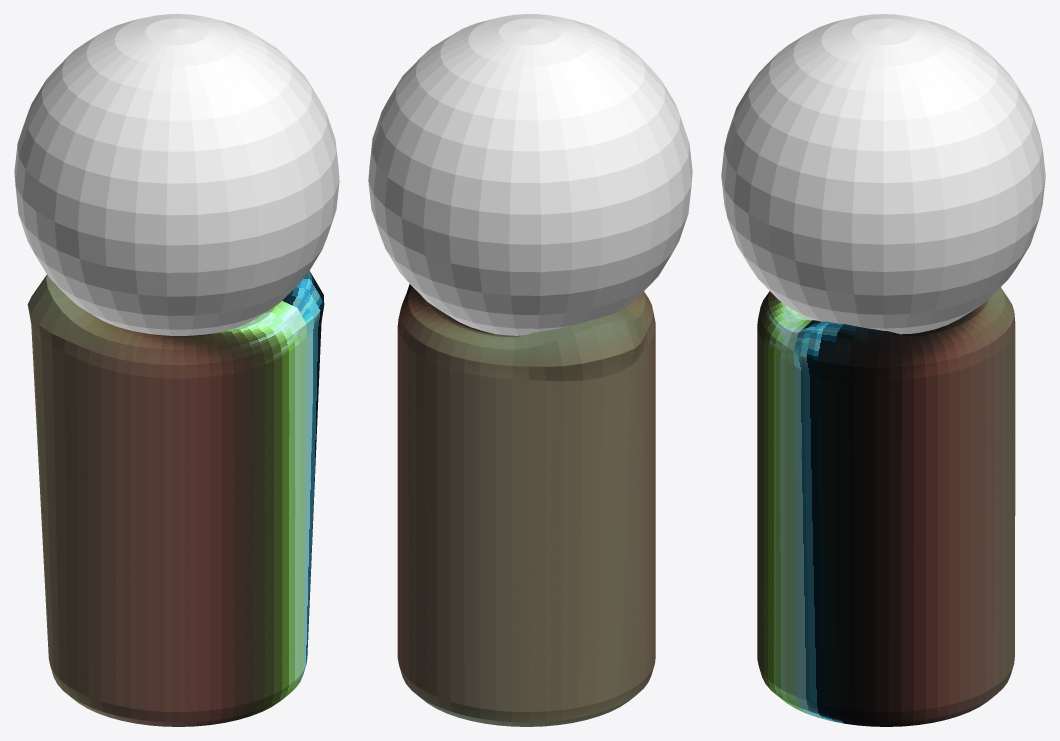
3 renders of one model, left to right at view 1: azimuth 30°, elevation 25°; view 2: azimuth 150°, elevation 25°; view 3: azimuth 270°, elevation 25°, orthographic.
Visible parts, largest first — view 1: Torus, Sphere; view 2: Torus, Sphere; view 3: Torus, Sphere.
Part boxes in pixels (left/top/right/bottom): Torus: left=27, top=271, right=324, bottom=726; Sphere: left=14, top=14, right=339, bottom=335; Torus: left=397, top=284, right=655, bottom=726; Sphere: left=368, top=14, right=692, bottom=335; Torus: left=757, top=287, right=1015, bottom=726; Sphere: left=721, top=14, right=1045, bottom=334.
Size of the model in its own units: 2.27 by 5.02 by 2.27.
Materials: 2 (1 with a texture image).
